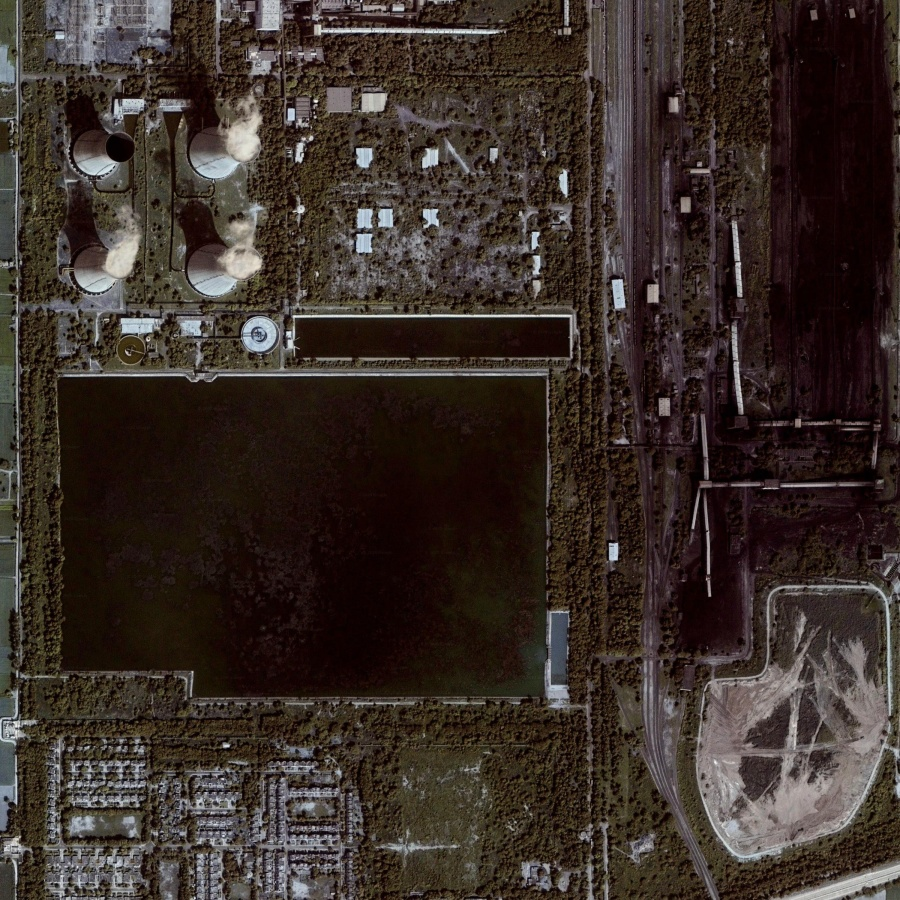PowerPlant: (33, 354, 586, 726)
